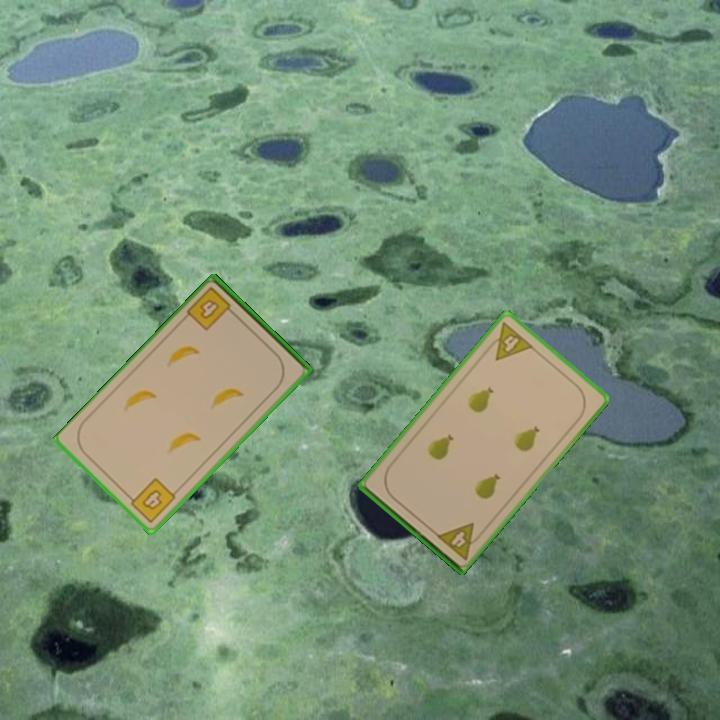4b: (124, 474, 179, 526), (183, 283, 239, 334)
4p: (482, 319, 536, 363), (433, 519, 486, 563)
